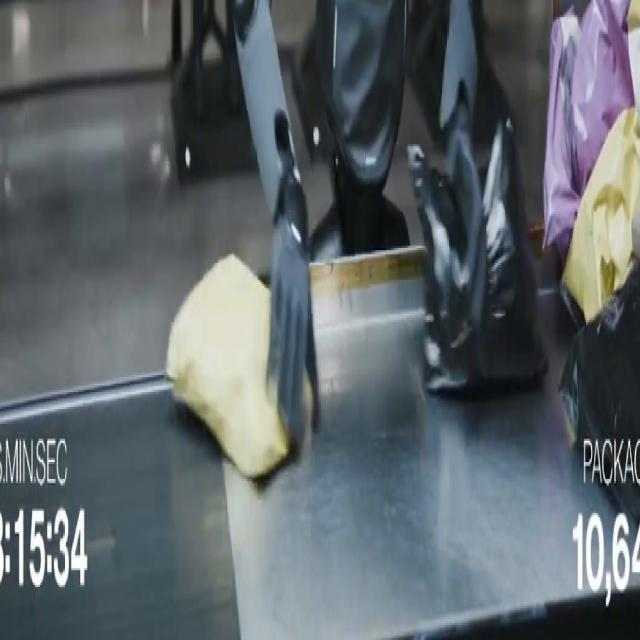package: (409, 123, 547, 394), (166, 255, 289, 478), (560, 263, 639, 521), (563, 109, 639, 322), (572, 0, 634, 194), (544, 11, 580, 260), (628, 0, 639, 108), (632, 215, 639, 260)
